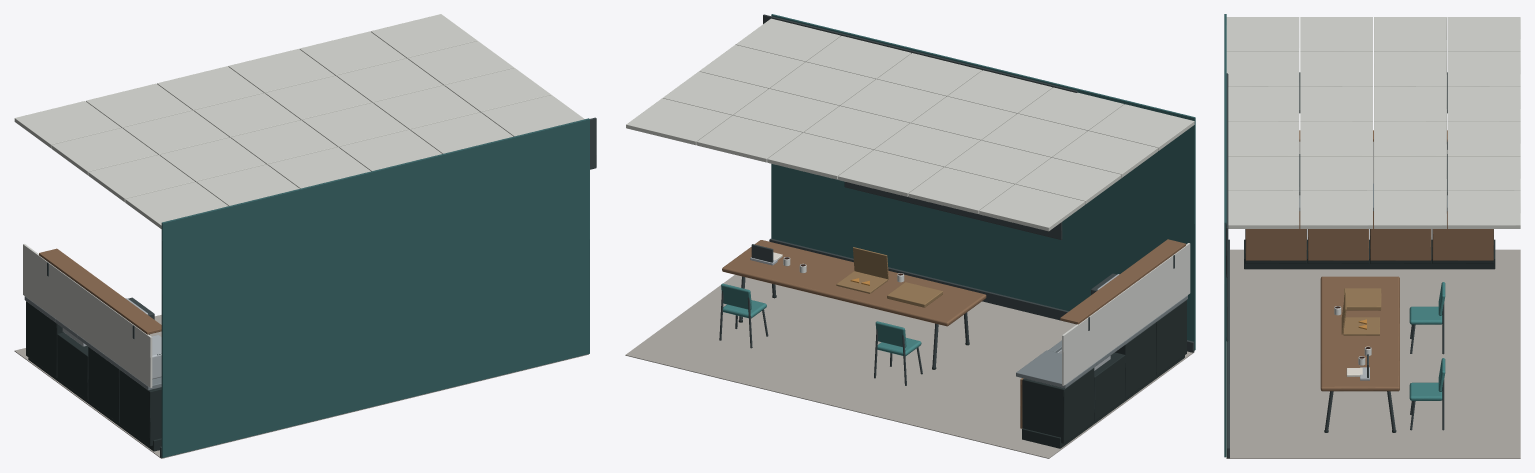
File: breakroom.glb
3 views of the same model, side by side, from view 1: azimuth 30°, elevation 25°; view 2: azimuth 150°, elevation 25°; view 3: azimuth 270°, elevation 25° (orthographic).
Visible parts, largest first — view 1: RearWall, CeilingGrid, Backsplash, Casework, Floor; view 2: CeilingGrid, Floor, RearWall, Casework, Backsplash, Table, Catering, NoticeFrames, DiningChair2, DiningChair1; view 3: CeilingGrid, Floor, Casework, Table, Catering, RearWall, DiningChair2, DiningChair1, NoticeFrames.
Part boxes in pixels (x1=…): RearWall: x1=160, y1=118, x2=589, y2=457; CeilingGrid: x1=14, y1=14, x2=584, y2=228; Backsplash: x1=23, y1=244, x2=161, y2=387; Casework: x1=24, y1=296, x2=161, y2=451; Floor: x1=14, y1=315, x2=588, y2=458; CeilingGrid: x1=626, y1=18, x2=1194, y2=231; Floor: x1=625, y1=274, x2=1194, y2=458; RearWall: x1=769, y1=14, x2=1195, y2=352; Casework: x1=1016, y1=295, x2=1187, y2=448; Backsplash: x1=1060, y1=239, x2=1190, y2=385; Table: x1=722, y1=240, x2=986, y2=369; Catering: x1=773, y1=247, x2=942, y2=307; NoticeFrames: x1=763, y1=14, x2=1077, y2=240; DiningChair2: x1=719, y1=283, x2=768, y2=348; DiningChair1: x1=874, y1=321, x2=922, y2=385; CeilingGrid: x1=1226, y1=17, x2=1520, y2=228; Floor: x1=1226, y1=249, x2=1520, y2=458; Casework: x1=1244, y1=183, x2=1495, y2=269; Table: x1=1320, y1=276, x2=1399, y2=432; Catering: x1=1334, y1=288, x2=1381, y2=376; RearWall: x1=1224, y1=14, x2=1229, y2=458; DiningChair2: x1=1409, y1=358, x2=1445, y2=430; DiningChair1: x1=1409, y1=282, x2=1445, y2=354; NoticeFrames: x1=1226, y1=73, x2=1228, y2=341.
Size of the model in its own units: 6.54 by 3.36 by 3.82.
